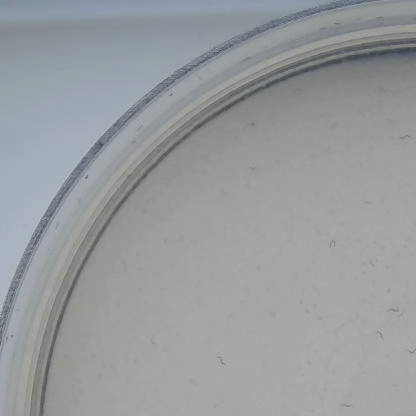worm: (370, 320, 388, 347), (332, 397, 359, 412), (316, 234, 343, 249), (209, 352, 231, 369), (380, 301, 402, 317), (394, 128, 416, 143), (402, 338, 416, 358), (145, 334, 161, 351), (362, 197, 379, 212)
